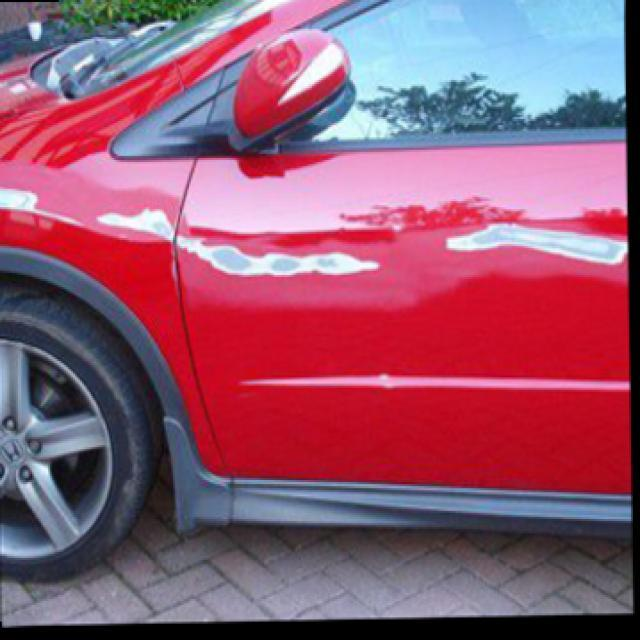scratch: (92, 205, 390, 281), (461, 195, 625, 275), (3, 184, 83, 244)
